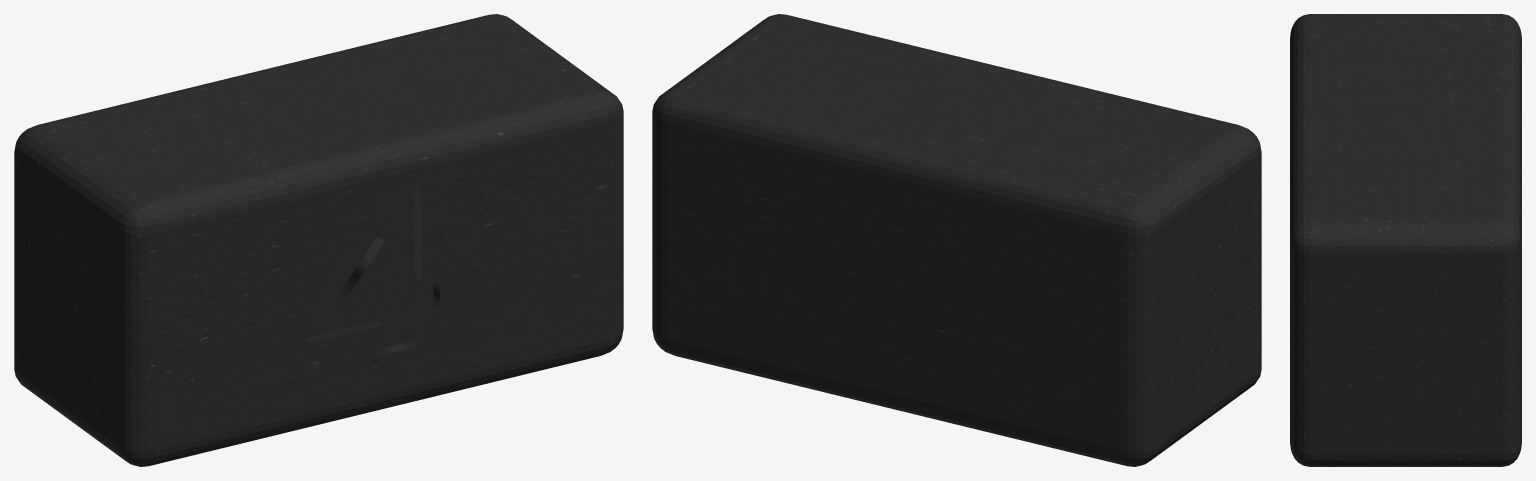
The model's file is btn_4.glb.
3 views of the same model, side by side, from view 1: azimuth 30°, elevation 25°; view 2: azimuth 150°, elevation 25°; view 3: azimuth 270°, elevation 25° (orthographic). The views are drawn at different scales.
Visible parts, largest first — view 1: Cube.003; view 2: Cube.003; view 3: Cube.003.
Boxes of the visible parts, x1=… form: Cube.003: x1=14, y1=14, x2=623, y2=466; Cube.003: x1=652, y1=14, x2=1261, y2=466; Cube.003: x1=1290, y1=14, x2=1521, y2=466.
Bounding box in the file's own units: 3.42 × 1.71 × 1.48.
2 materials, 2 textured.
